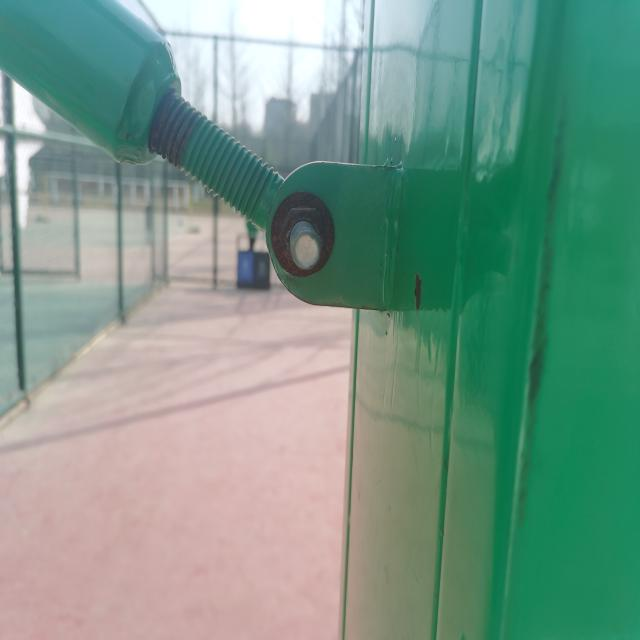bolt nut: (276, 203, 330, 273)
